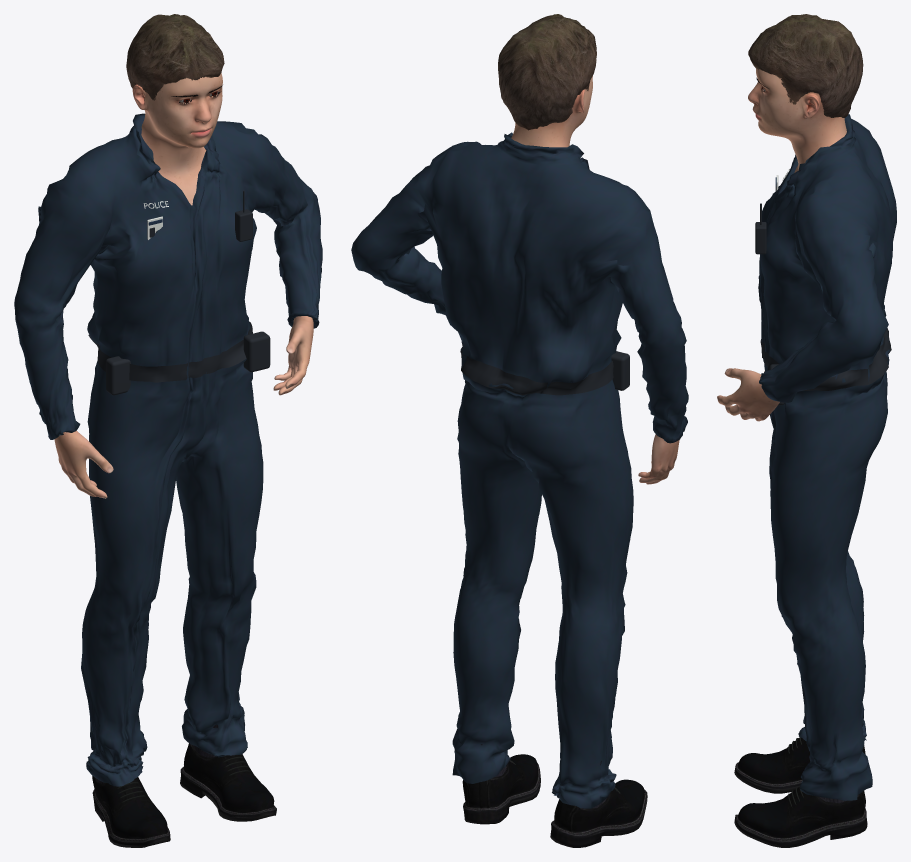
File: crime-police-officer-static.glb
3 renders of one model, left to right at view 1: azimuth 30°, elevation 25°; view 2: azimuth 150°, elevation 25°; view 3: azimuth 270°, elevation 25°, orthographic.
Parts seen in each view (by area): view 1: male_casualsuit01, Drew | anatomical body, shoes03, short02, Uniform fitted band, Duty belt pouch.001, Duty belt pouch; view 2: male_casualsuit01, short02, shoes03, Drew | anatomical body, Uniform fitted band, Duty belt pouch; view 3: male_casualsuit01, shoes03, short02, Drew | anatomical body, Uniform fitted band, Shoulder radio.
Boxes of the visible parts, x1,y1,x2,y2 form: male_casualsuit01: (14, 113, 322, 786); Drew | anatomical body: (54, 73, 313, 498); shoes03: (92, 725, 276, 847); short02: (126, 14, 224, 100); Uniform fitted band: (88, 322, 252, 382); Duty belt pouch.001: (243, 331, 270, 372); Duty belt pouch: (106, 356, 130, 395); male_casualsuit01: (351, 132, 688, 808); short02: (498, 14, 596, 130); shoes03: (462, 744, 647, 847); Drew | anatomical body: (511, 75, 679, 484); Uniform fitted band: (460, 341, 613, 395); Duty belt pouch: (611, 351, 629, 390); male_casualsuit01: (758, 114, 896, 800); shoes03: (734, 737, 867, 847); short02: (748, 14, 863, 117); Drew | anatomical body: (717, 68, 846, 421); Uniform fitted band: (760, 328, 891, 390); Shoulder radio: (755, 222, 766, 254).
Bounding box in the file's own units: 0.7425 × 1.81 × 0.3739.
13 materials, 11 textured.
